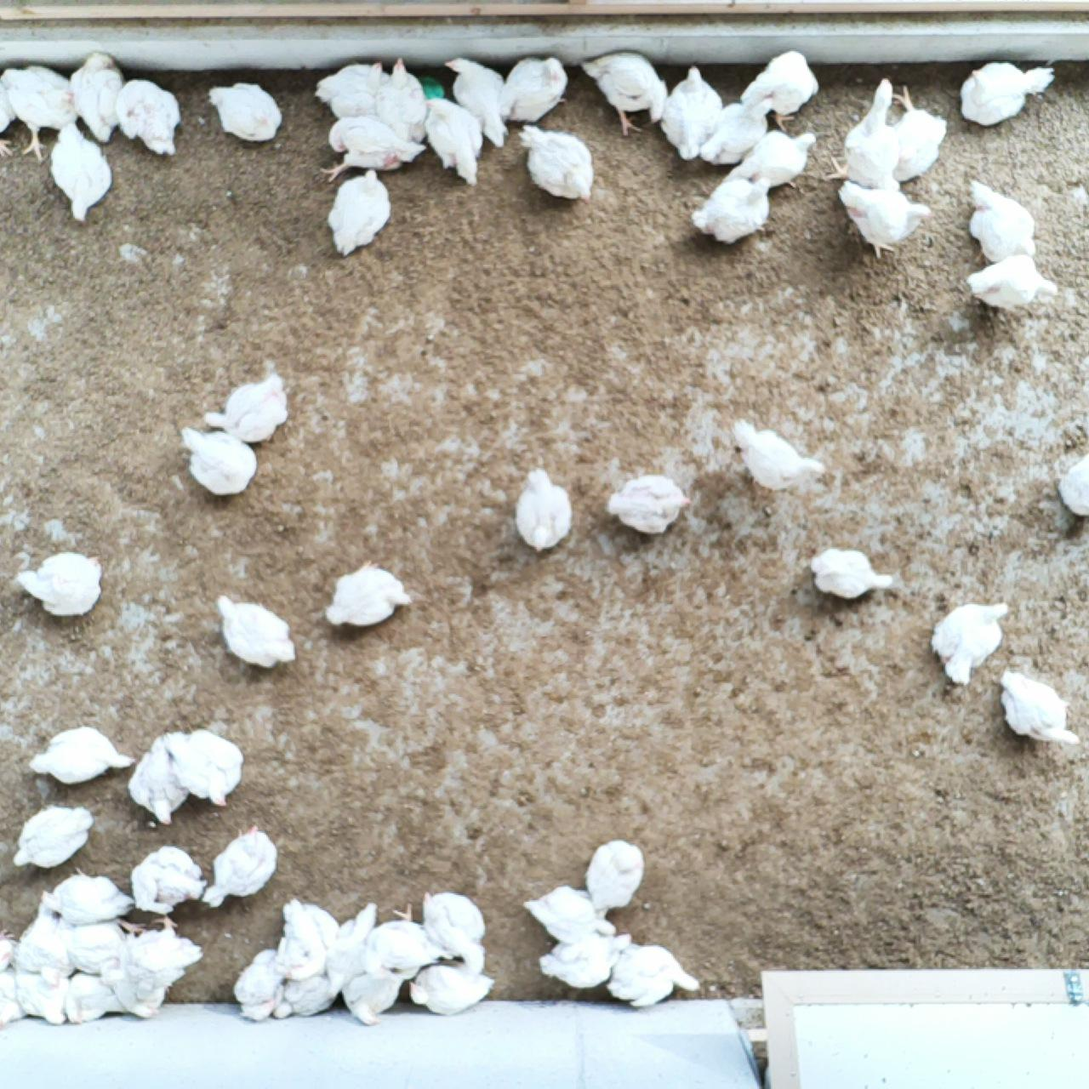chicken: (840, 177, 937, 258), (827, 80, 902, 184), (581, 49, 668, 135), (0, 62, 77, 156), (998, 669, 1083, 748), (163, 730, 246, 808), (734, 417, 826, 487), (742, 50, 823, 129), (934, 602, 1010, 685), (203, 373, 291, 444), (519, 121, 595, 203), (205, 824, 280, 907), (443, 55, 509, 149), (215, 594, 296, 669), (963, 60, 1057, 124), (32, 724, 136, 781), (318, 116, 420, 174), (53, 121, 112, 220), (328, 559, 413, 626), (328, 169, 394, 254), (180, 426, 257, 497), (970, 180, 1039, 258), (129, 735, 188, 826), (613, 945, 701, 1006), (700, 95, 775, 164), (427, 96, 483, 188), (20, 554, 103, 616), (523, 887, 616, 942), (322, 898, 378, 989), (538, 934, 634, 987), (968, 254, 1060, 309), (665, 68, 721, 158), (897, 91, 953, 180), (14, 804, 90, 869), (738, 131, 818, 192), (118, 77, 179, 157), (363, 905, 432, 973), (131, 845, 205, 908), (71, 51, 123, 140), (814, 547, 894, 604), (40, 874, 135, 922), (503, 57, 570, 125), (425, 891, 487, 963), (207, 84, 282, 143), (132, 916, 201, 980), (516, 472, 571, 552), (611, 475, 689, 530), (317, 56, 388, 116), (702, 179, 772, 239), (276, 892, 334, 964), (344, 964, 413, 1024), (378, 61, 429, 142), (410, 965, 495, 1013), (590, 840, 645, 914), (269, 972, 342, 1024), (110, 972, 185, 1018), (71, 919, 131, 971), (25, 912, 75, 973), (65, 969, 117, 1026), (242, 952, 282, 1017), (22, 964, 68, 1019), (1061, 447, 1089, 513), (0, 976, 23, 1028), (0, 97, 19, 158), (0, 925, 20, 970)
